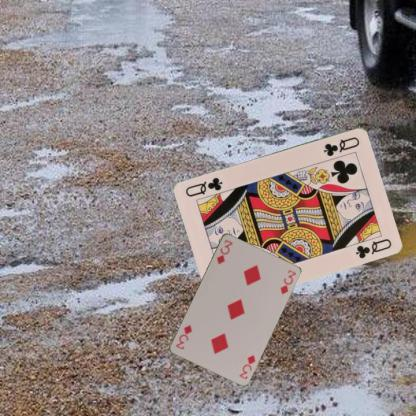3d: (214, 237, 234, 265), (236, 352, 256, 380)
Qc: (321, 134, 361, 157)
